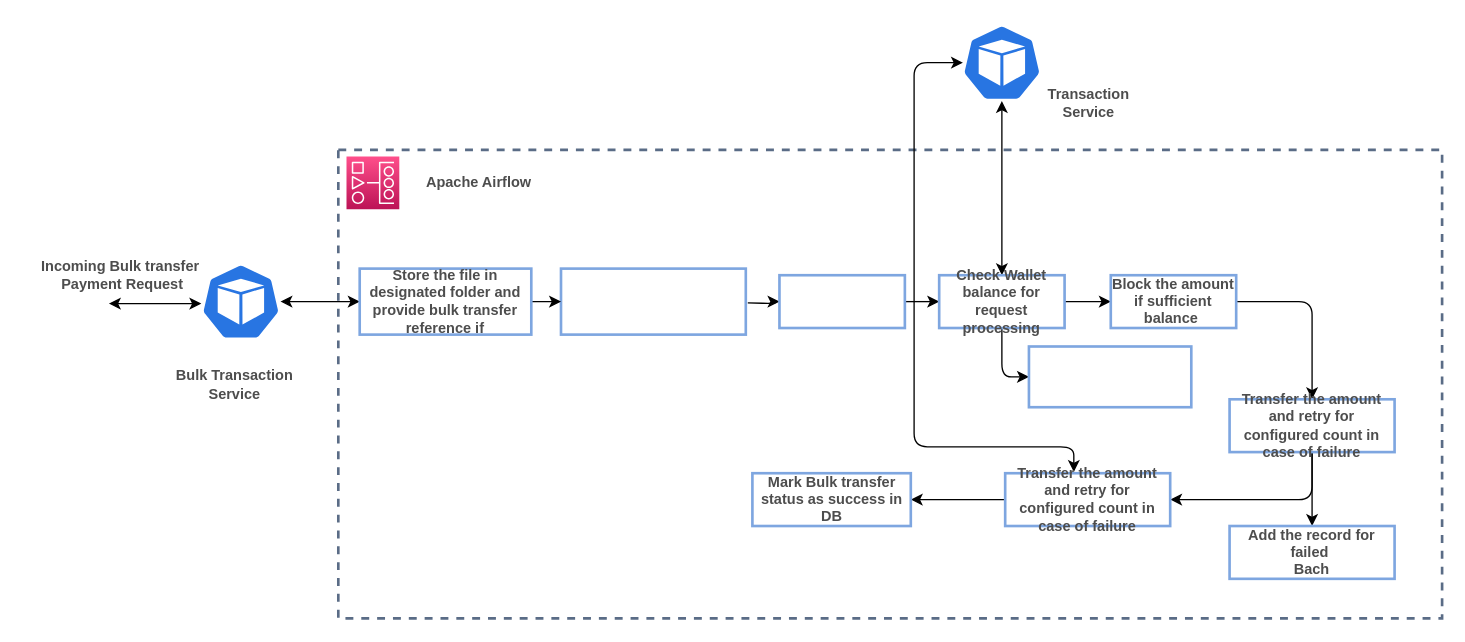
This 1465x642 diagram has some shape labels left out. Each missing label, with the centre of its shape:
"Check for file receive Event and the bulk transfer reference id" belongs at pixel 652 301.
"Create the record for insufficient balance and add record in failed batch" belongs at pixel 1109 376.
"Validate the file format and integrity check" belongs at pixel 841 301.
